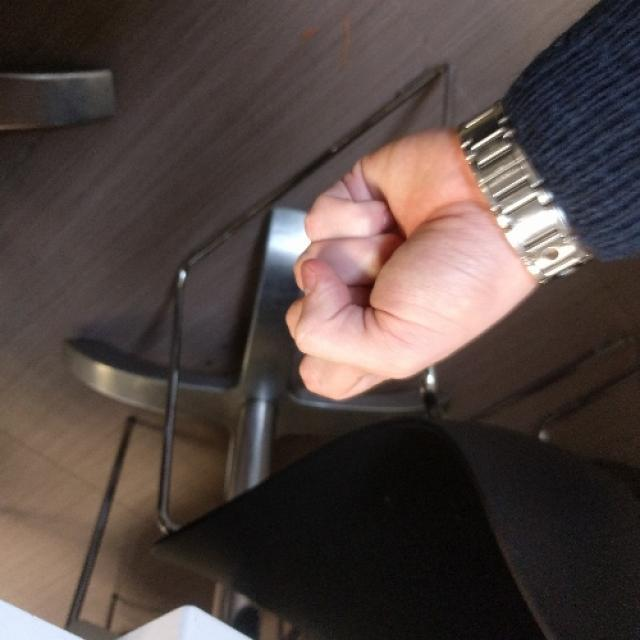fist: (278, 125, 540, 404)
